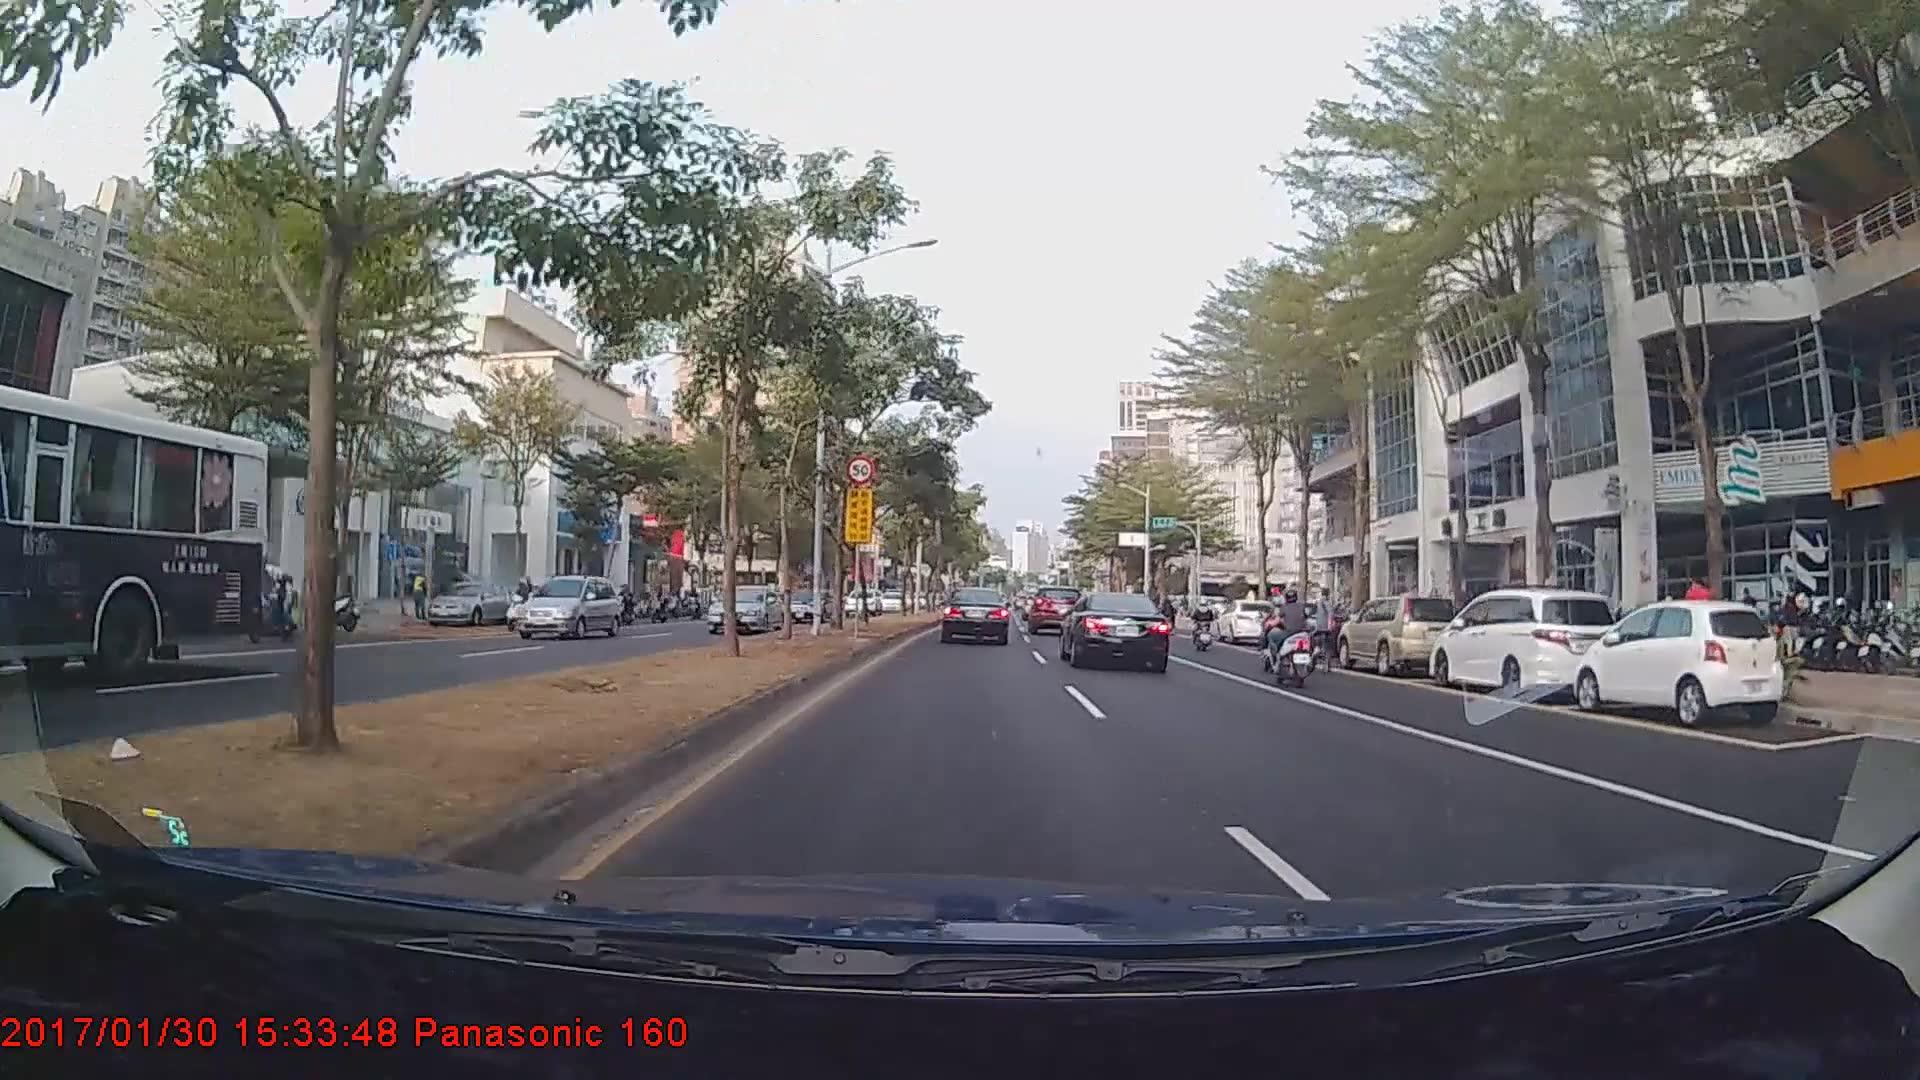rider: (1257, 582, 1329, 684), (1186, 592, 1219, 648)
vehicle: (0, 379, 267, 686), (1575, 597, 1787, 722), (1426, 588, 1619, 696), (1337, 592, 1466, 672), (1060, 587, 1172, 674), (509, 573, 623, 640), (939, 586, 1011, 646), (705, 581, 784, 635), (425, 581, 511, 624), (1219, 595, 1280, 644), (1027, 587, 1081, 633), (782, 585, 835, 620), (843, 588, 880, 614)
